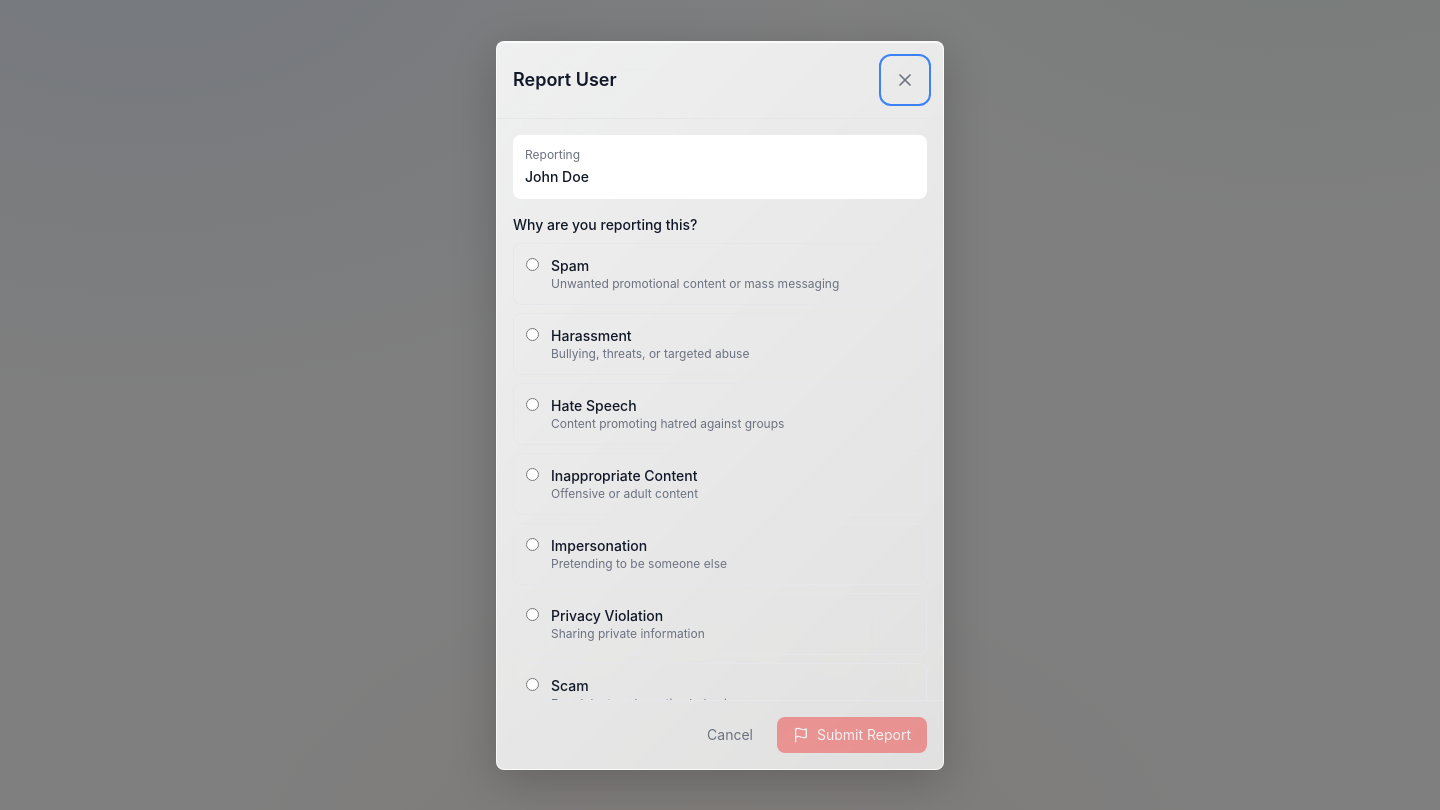
Test: ReportModal › shows loading state while submitting
Click the text "Spam" at [720, 274], box [513,242,927,304]
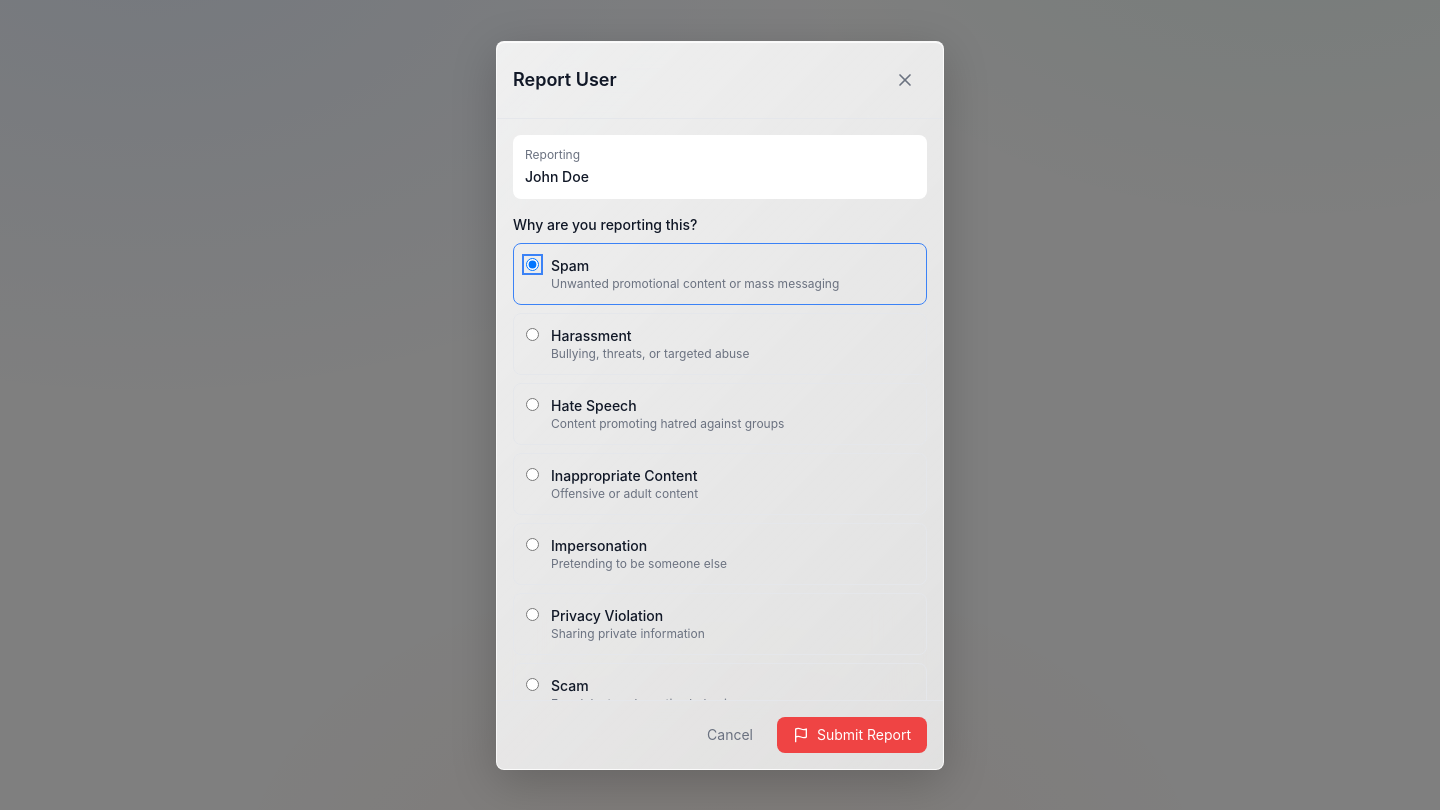
Click the button "Submit Report" at [852, 734], box [777,716,927,752]
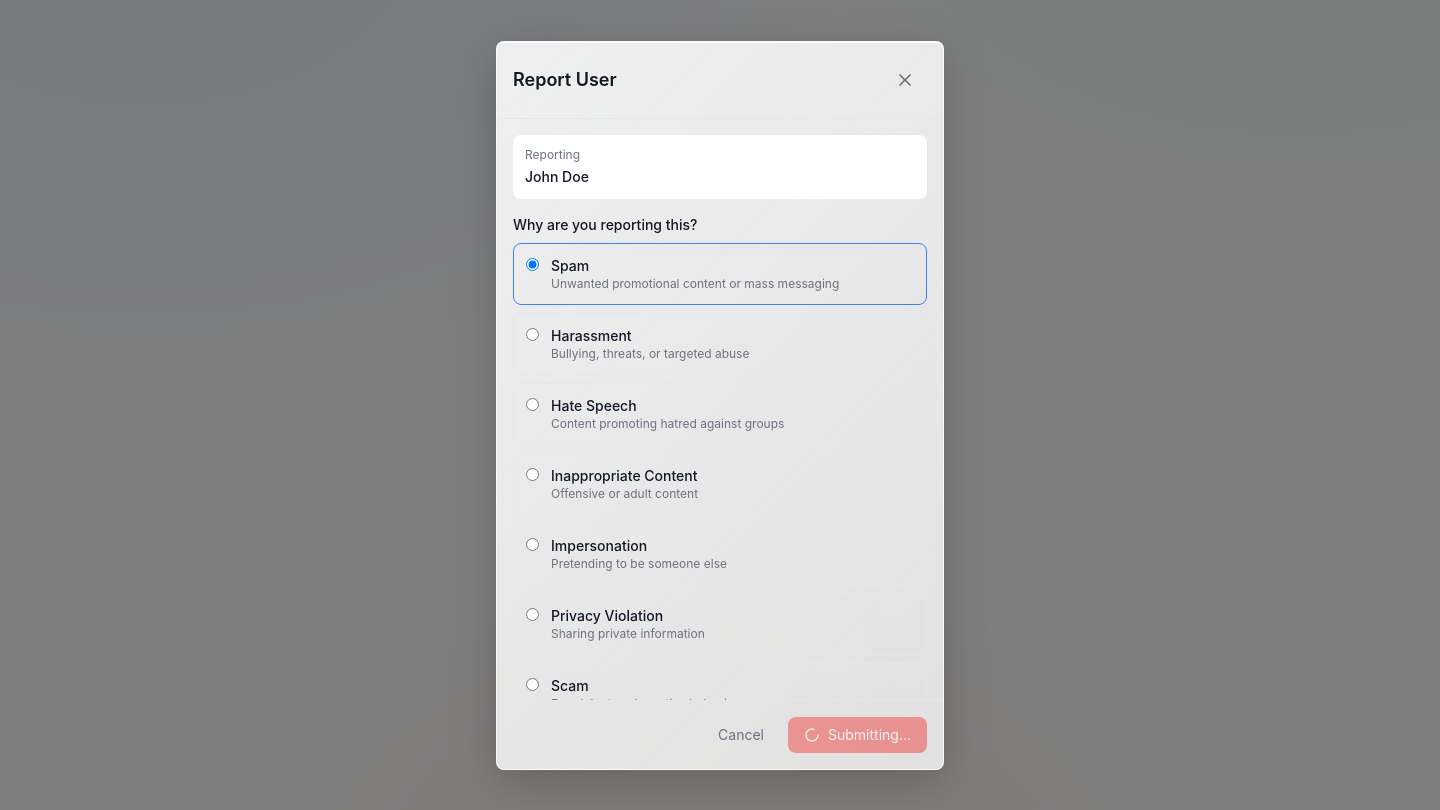
Result: the button "Submitting..." is shown at [788,716,927,752]
